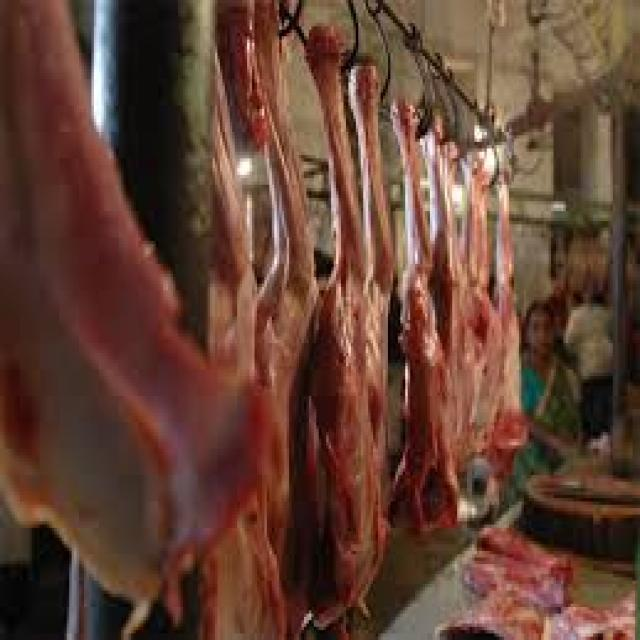Organik: (1, 2, 530, 590)
